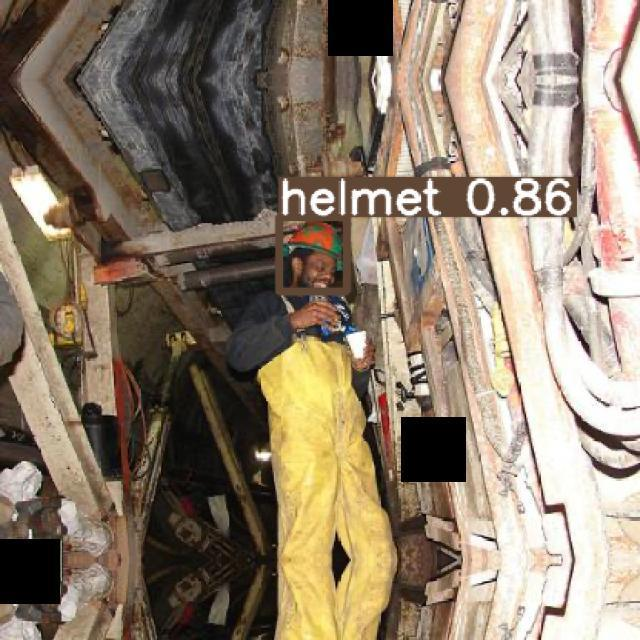helmet: (283, 221, 343, 271)
